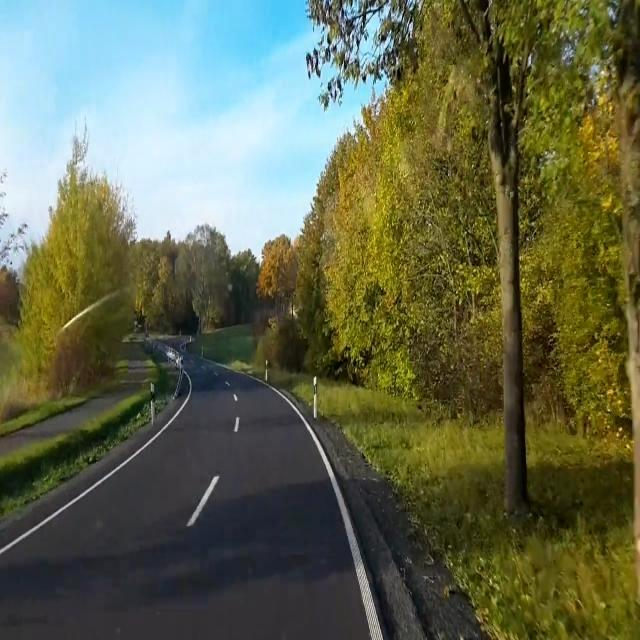lane: (1, 371, 192, 554), (272, 388, 384, 640), (186, 475, 218, 526)
road: (0, 355, 370, 639)
